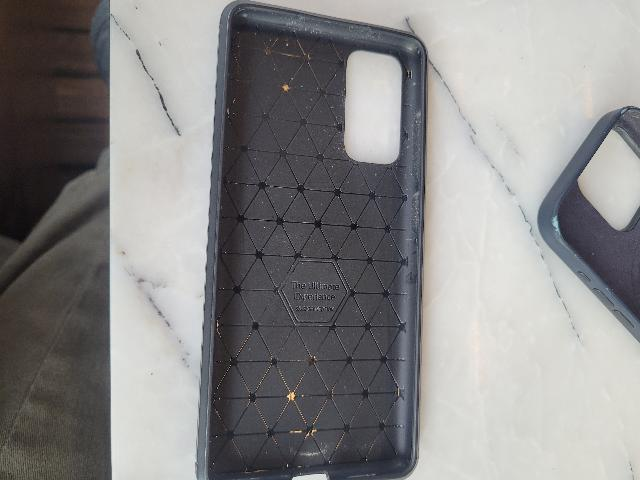Plastik: (196, 8, 458, 480)
